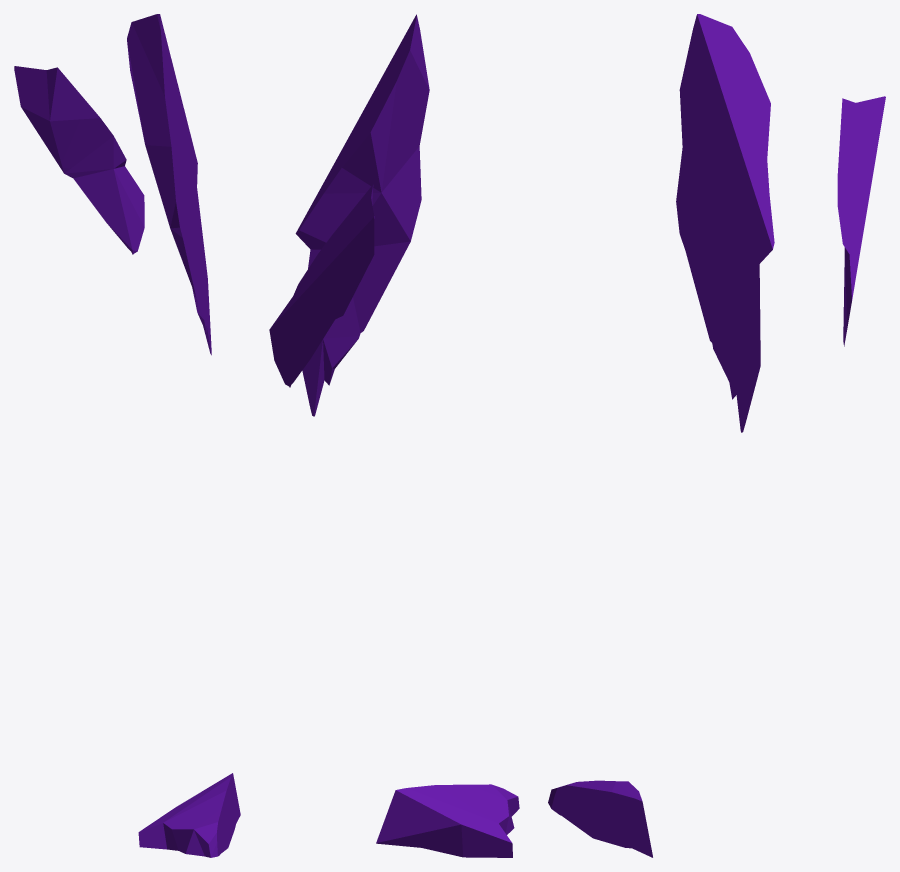
The model's file is TheMan_4_chunks.fbx.
The picture shows the model from 3 angles, left to right: view 1: azimuth 30°, elevation 25°; view 2: azimuth 150°, elevation 25°; view 3: azimuth 270°, elevation 25°; orthographic projection. The views are drawn at different scales.
Parts seen in each view (by area): view 1: TheMan_4_3, TheMan_4_1, TheMan_4_6, TheMan_4_0, TheMan_4_5, TheMan_4_4; view 2: TheMan_4_3, TheMan_4_1, TheMan_4_4, TheMan_4_0, TheMan_4_5, TheMan_4_6, TheMan_4_2; view 3: TheMan_4_3, TheMan_4_4, TheMan_4_1, TheMan_4_5, TheMan_4_6, TheMan_4_0, TheMan_4_2.
Part boxes in pixels (bbox=[...]): TheMan_4_3: bbox=[127, 14, 197, 233]; TheMan_4_1: bbox=[138, 773, 240, 857]; TheMan_4_6: bbox=[14, 66, 84, 163]; TheMan_4_0: bbox=[58, 164, 144, 254]; TheMan_4_5: bbox=[57, 100, 126, 175]; TheMan_4_4: bbox=[170, 185, 207, 326]; TheMan_4_3: bbox=[295, 14, 429, 247]; TheMan_4_1: bbox=[376, 784, 519, 857]; TheMan_4_4: bbox=[308, 242, 410, 379]; TheMan_4_0: bbox=[269, 285, 347, 387]; TheMan_4_5: bbox=[295, 217, 348, 305]; TheMan_4_6: bbox=[347, 184, 374, 304]; TheMan_4_2: bbox=[302, 362, 331, 416]; TheMan_4_3: bbox=[676, 14, 774, 261]; TheMan_4_4: bbox=[683, 244, 760, 391]; TheMan_4_1: bbox=[548, 780, 652, 857]; TheMan_4_5: bbox=[837, 148, 877, 252]; TheMan_4_6: bbox=[839, 96, 885, 149]; TheMan_4_0: bbox=[843, 220, 865, 346]; TheMan_4_2: bbox=[731, 366, 760, 432].
Bounding box in the file's own units: 237 × 1356 × 507.
